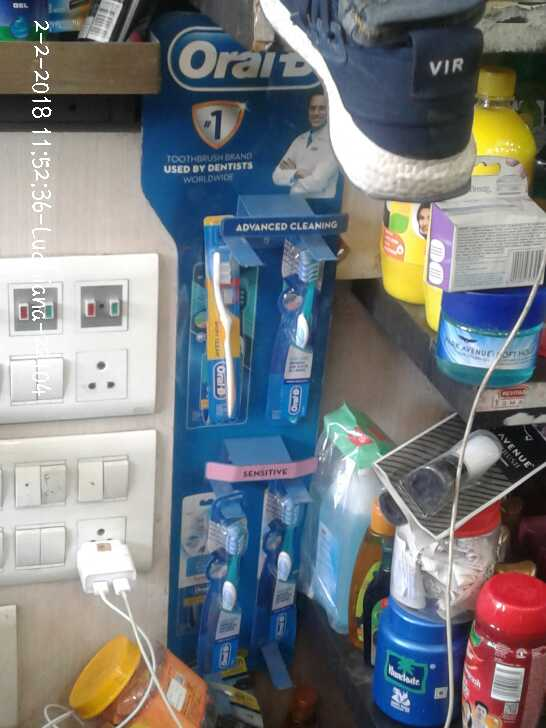oralb: (200, 243, 253, 424), (277, 237, 323, 430), (206, 518, 251, 670), (271, 496, 311, 650)
